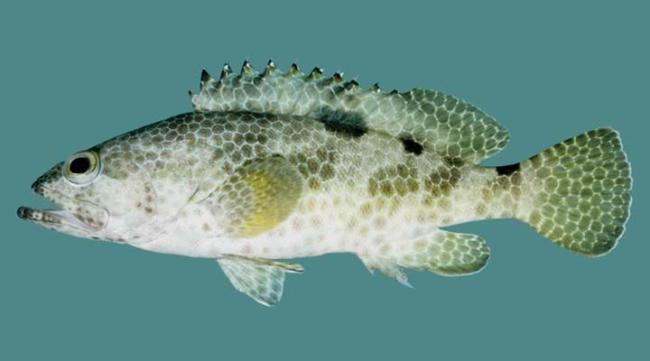fish: (16, 54, 635, 310)
